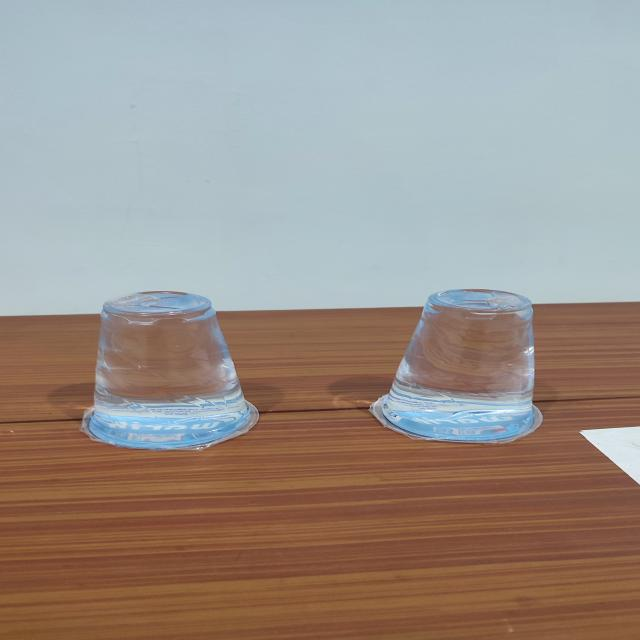air gelas: (74, 287, 276, 455), (364, 281, 561, 447)
